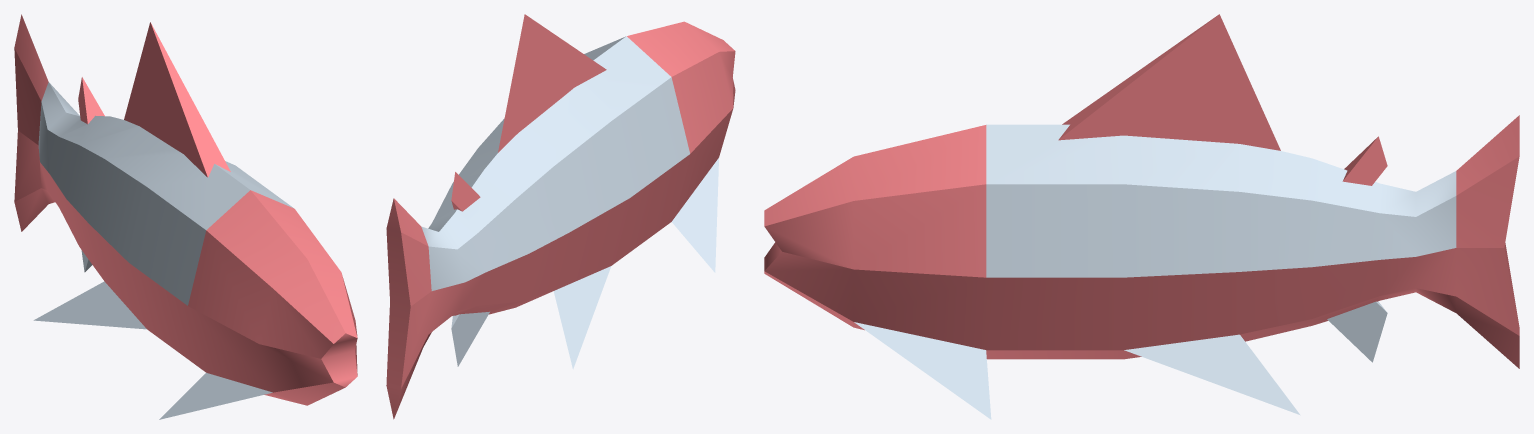
File: fish.obj
3 renders of one model, left to right at view 1: azimuth 30°, elevation 25°; view 2: azimuth 150°, elevation 25°; view 3: azimuth 270°, elevation 25°, orthographic. The views are drawn at different scales.
Parts seen in each view (by area): view 1: fish; view 2: fish; view 3: fish.
Part boxes in pixels (x1,y1,x2,y2): fish: (14, 14, 357, 419); fish: (386, 14, 735, 419); fish: (764, 14, 1519, 419).
Size of the model in its own units: 0.1978 by 0.3222 by 0.6208.
